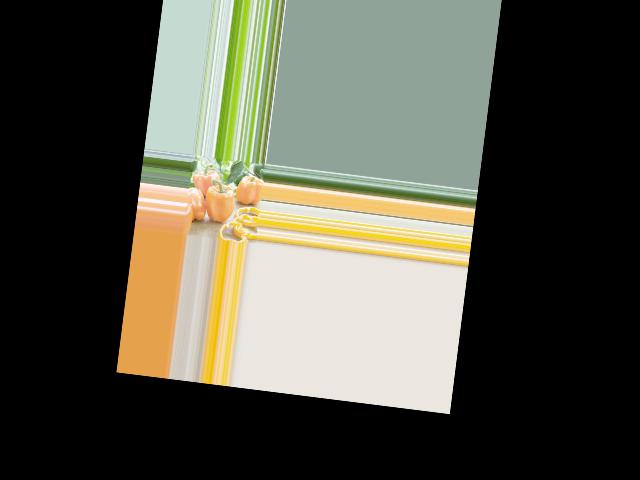bell_pepper: (184, 186, 208, 222)
